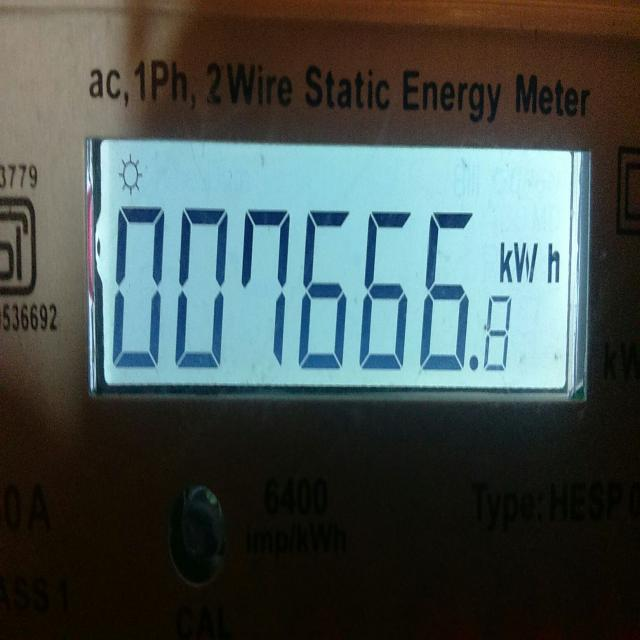.: (466, 345, 482, 378)
0: (171, 195, 233, 376), (111, 197, 164, 382)
6: (357, 201, 413, 378), (298, 198, 352, 378), (418, 200, 468, 374)
7: (240, 200, 294, 374)
8: (479, 291, 515, 377)
